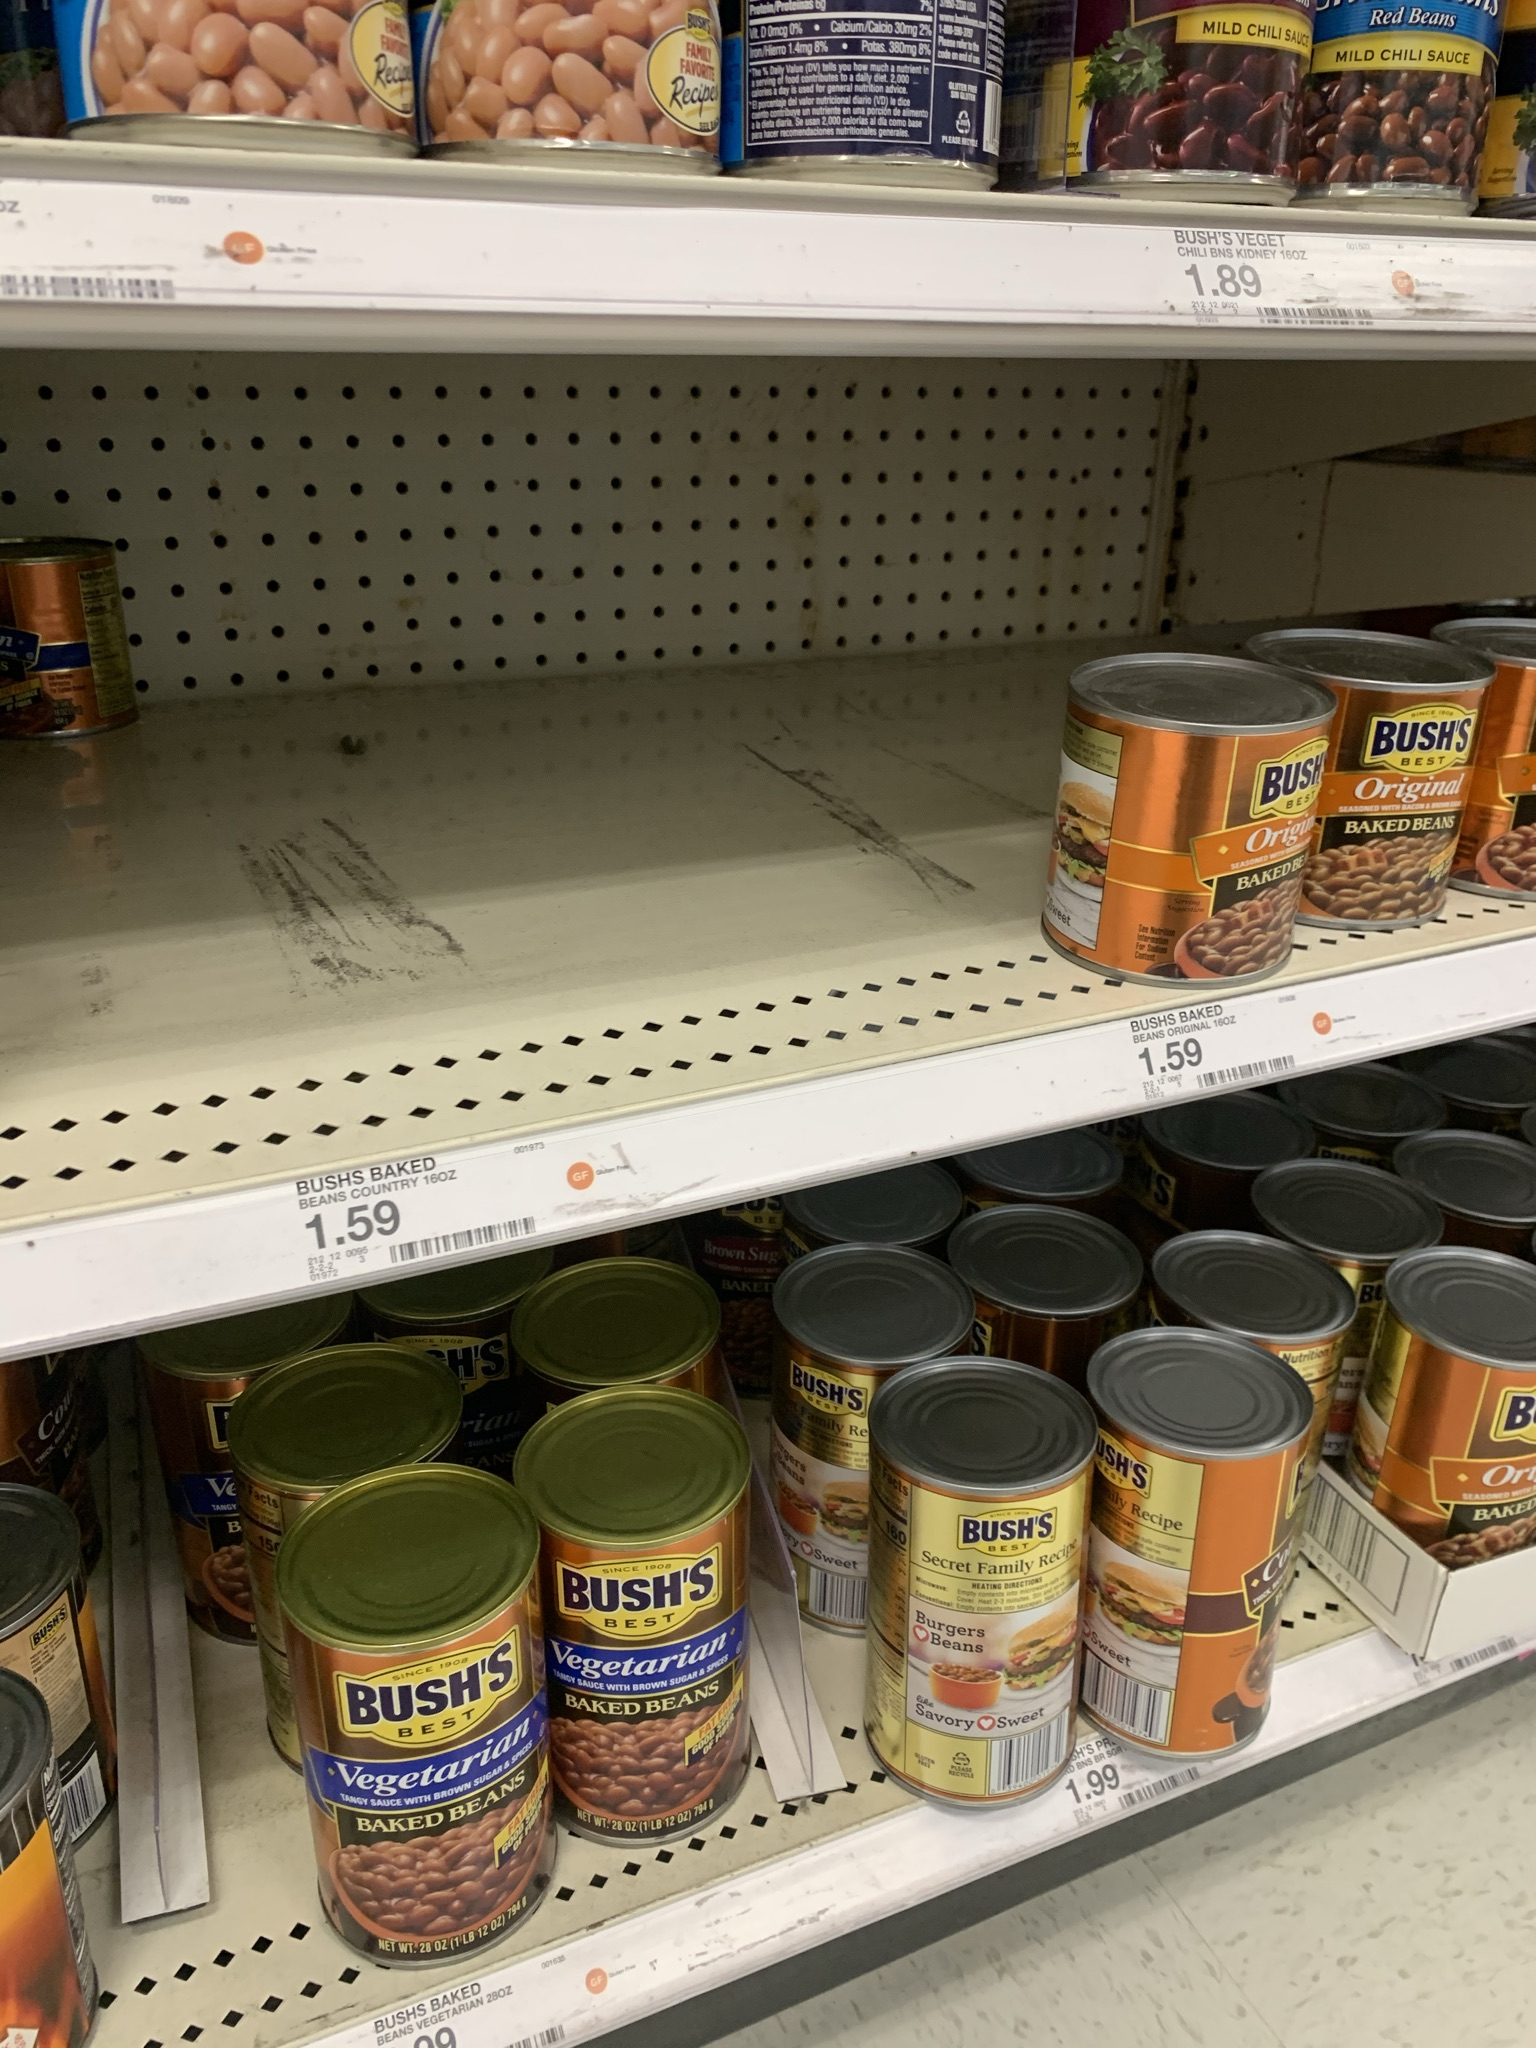can: (884, 1459, 1076, 1775), (326, 1632, 523, 1938), (1050, 719, 1294, 948), (1104, 1429, 1273, 1740), (563, 1524, 745, 1806), (1325, 681, 1463, 921)
